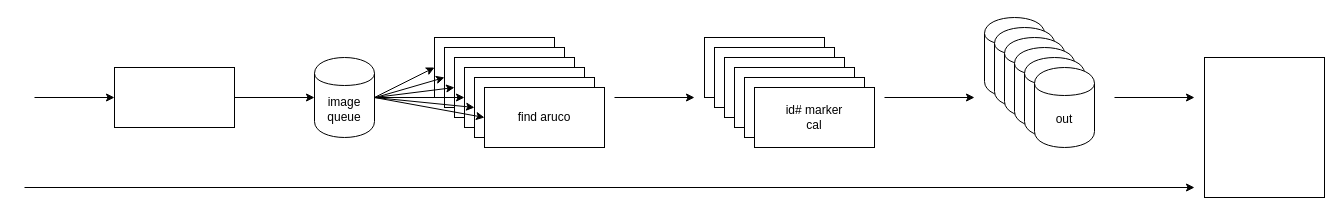
Some shapes in this 1342 by 215 pixel diagram are drawn without their labels. Each missing label, with the centre of its shape:
image transfrom: (x=174, y=97)
mix: (x=1264, y=127)
